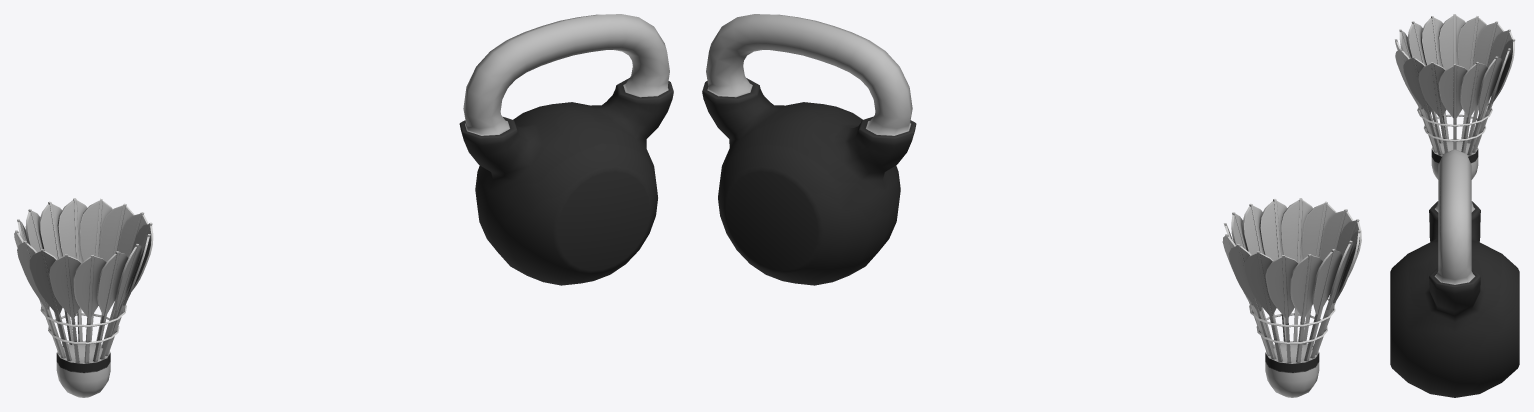
The model's file is kettle_n_shuttle.glb.
3 views of the same model, side by side, from view 1: azimuth 30°, elevation 25°; view 2: azimuth 150°, elevation 25°; view 3: azimuth 270°, elevation 25° (orthographic). The views are drawn at different scales.
Visible parts, largest first — view 1: Kettlebell_Kettlebell_0, Shuttlecock_Shuttlecock_0; view 2: Kettlebell_Kettlebell_0, Shuttlecock_Shuttlecock_0; view 3: Kettlebell_Kettlebell_0, Shuttlecock_Shuttlecock_0.
Boxes of the visible parts, left/top/right/bottom form: Kettlebell_Kettlebell_0: left=459, top=14, right=673, bottom=285; Shuttlecock_Shuttlecock_0: left=14, top=198, right=153, bottom=397; Kettlebell_Kettlebell_0: left=702, top=14, right=916, bottom=285; Shuttlecock_Shuttlecock_0: left=1222, top=198, right=1361, bottom=397; Kettlebell_Kettlebell_0: left=1390, top=149, right=1519, bottom=397; Shuttlecock_Shuttlecock_0: left=1394, top=14, right=1515, bottom=179.
Size of the model in its own units: 4.02 by 1.53 by 0.8006.
2 materials, 2 textured.
